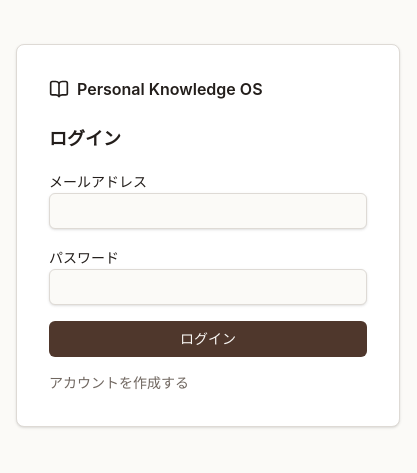
Test case: ログイン画面 › サインアップでメール確認が必要な場合は案内を表示する
Click the button "アカウントを作成する" at (119, 382), box [49,372,189,392]
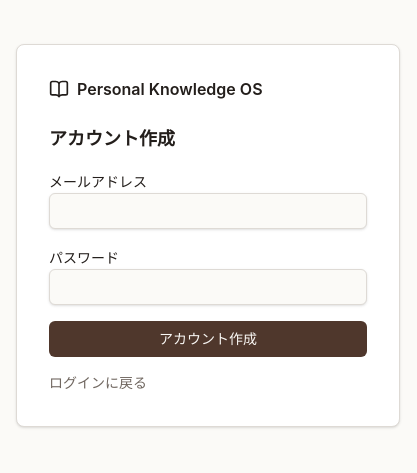
Type "new@example.com" into the field labelled "メールアドレス" at (208, 210), box [49,192,367,228]
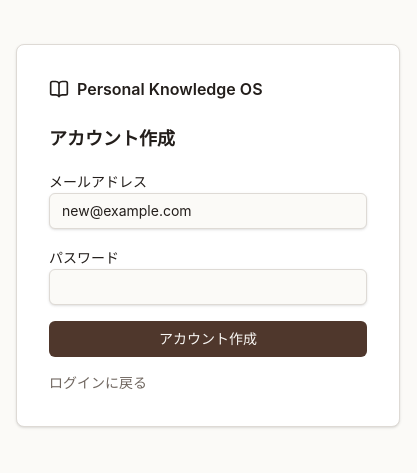
Type "password123" into the password field labelled "パスワード" at (208, 286), box [49,268,367,304]
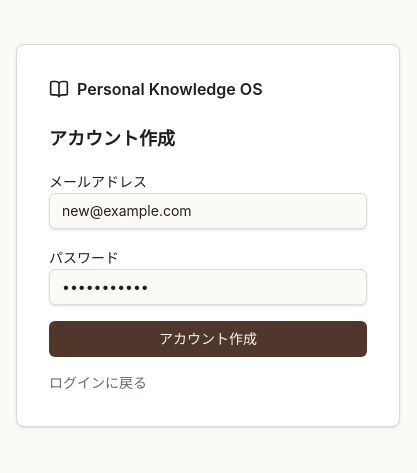
Click the button "アカウント作成" at (208, 338), box [49,320,367,356]
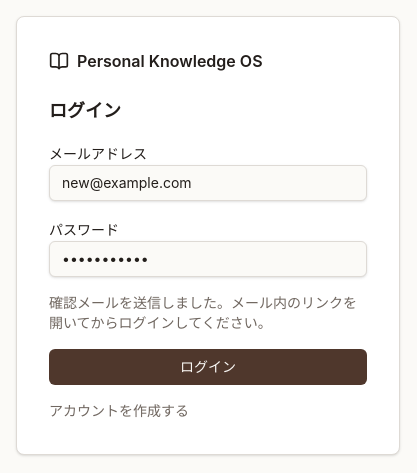
Now the message shows "確認メール", box [49,294,357,330]
